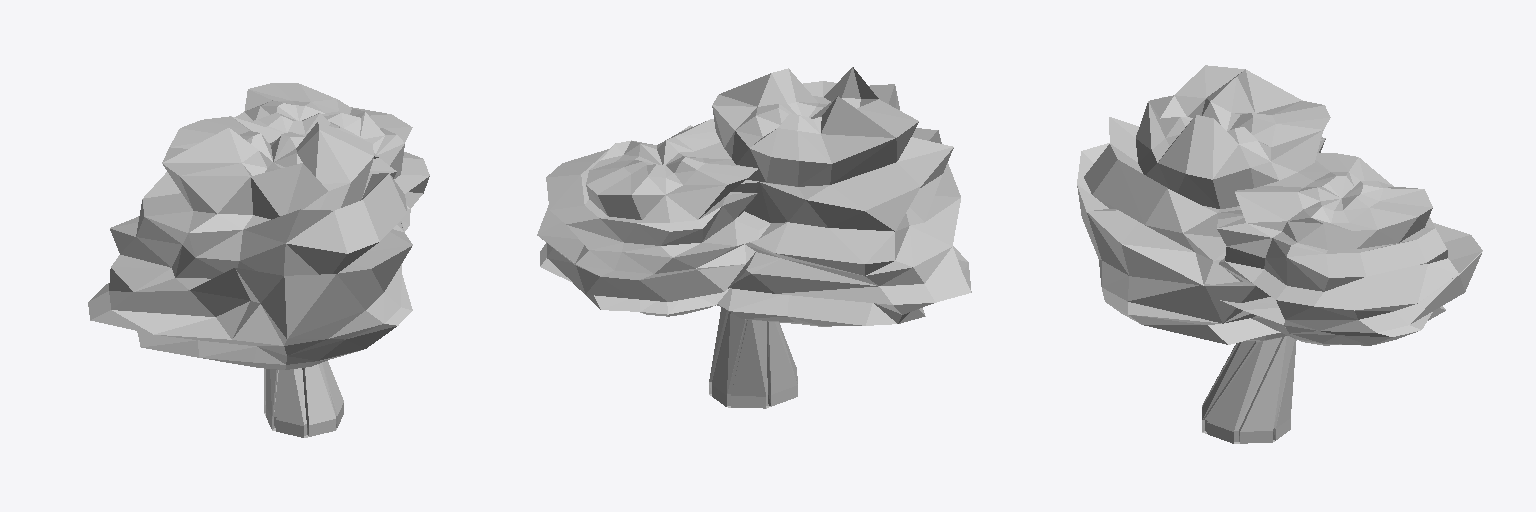
File: bush.obj
3 views of the same model, side by side, from view 1: azimuth 30°, elevation 25°; view 2: azimuth 150°, elevation 25°; view 3: azimuth 270°, elevation 25° (orthographic).
Visible parts, largest first — view 1: polySurface16; view 2: polySurface16; view 3: polySurface16.
Boxes of the visible parts, x1,y1,x2,y2 form: polySurface16: [88, 83, 429, 437]; polySurface16: [537, 67, 971, 408]; polySurface16: [1077, 65, 1482, 443].
Bounding box in the file's own units: 2.55 × 2.06 × 2.43.